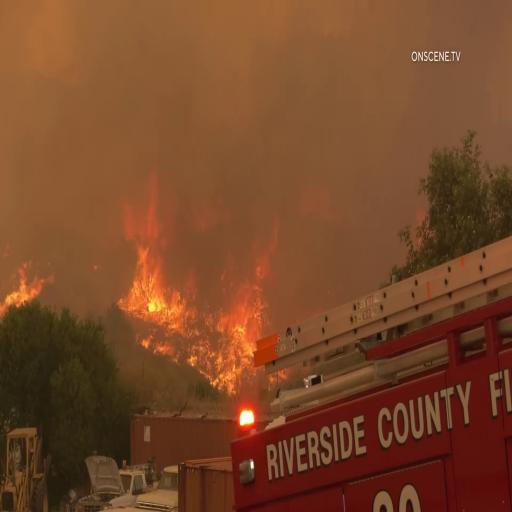fire: (131, 177, 275, 385), (9, 254, 61, 320)
